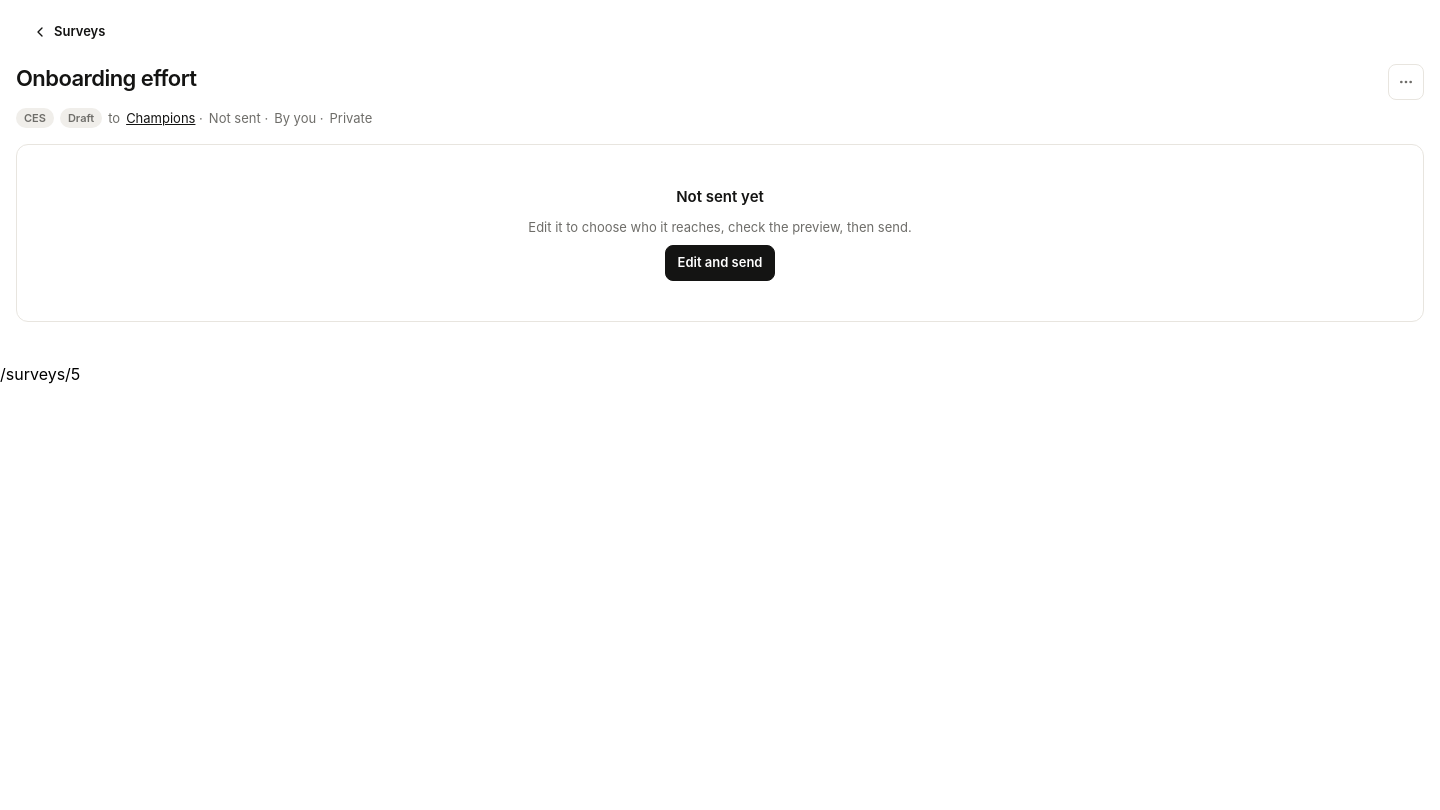
Test: /surveys/:id (spec §2.3) › shows a draft as not sent yet, with Edit and send, and deletes it after confirming
The width and height of the screenshot is (1440, 810).
Expected: the text "Not sent yet" is shown, 676,185 -> 764,209
Click the button named "More actions". click: (1406, 82)
box: 1388,64 -> 1424,100
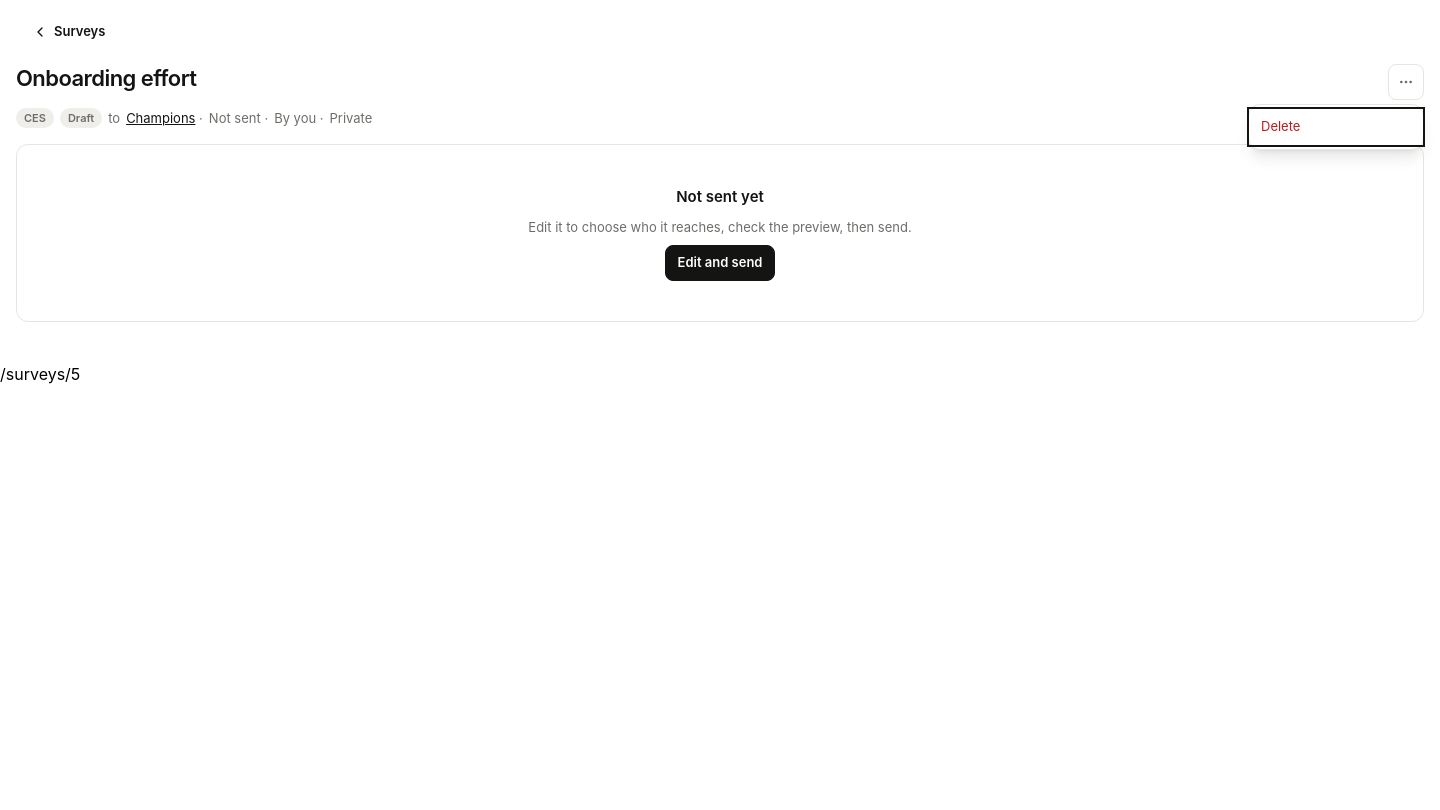
Click the menu item "Delete". click: (1336, 127)
box: 1249,109 -> 1423,145
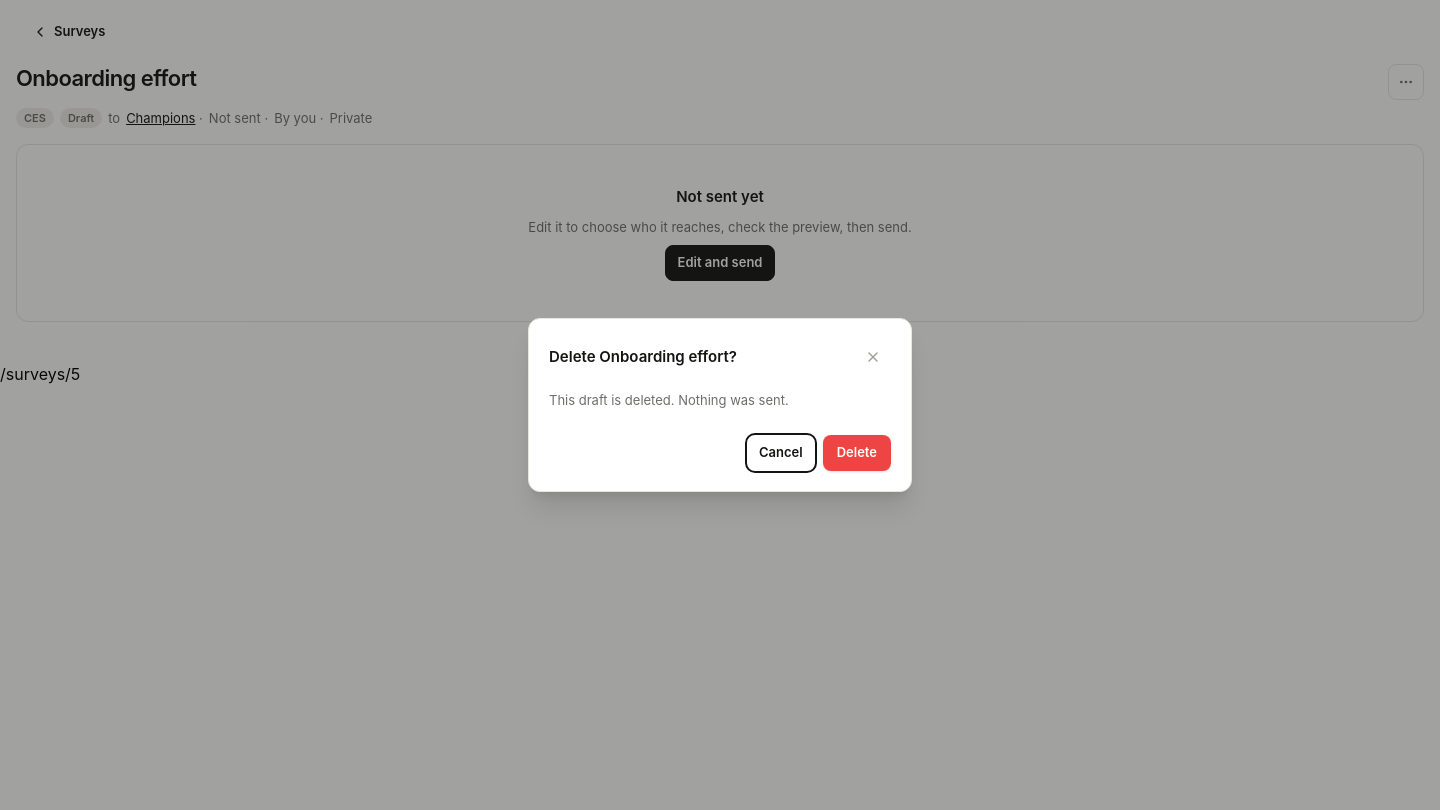
Now the heading "Delete Onboarding effort?" is shown, box 549,346 -> 737,368
Click the button "Delete". click: (857, 453)
box: 823,435 -> 891,471
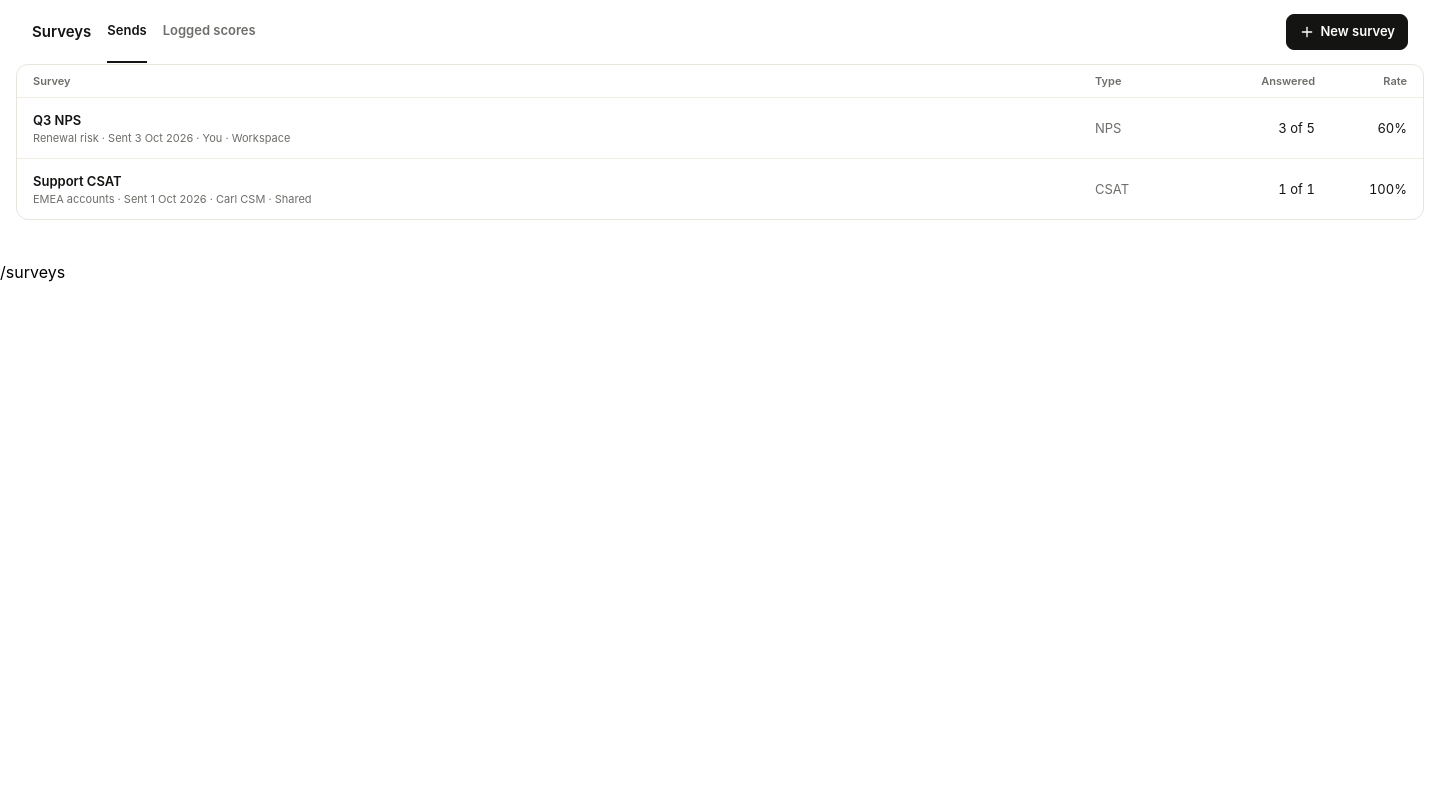
Now the text with test id "where" reads "/surveys", box 0,262 -> 65,282
